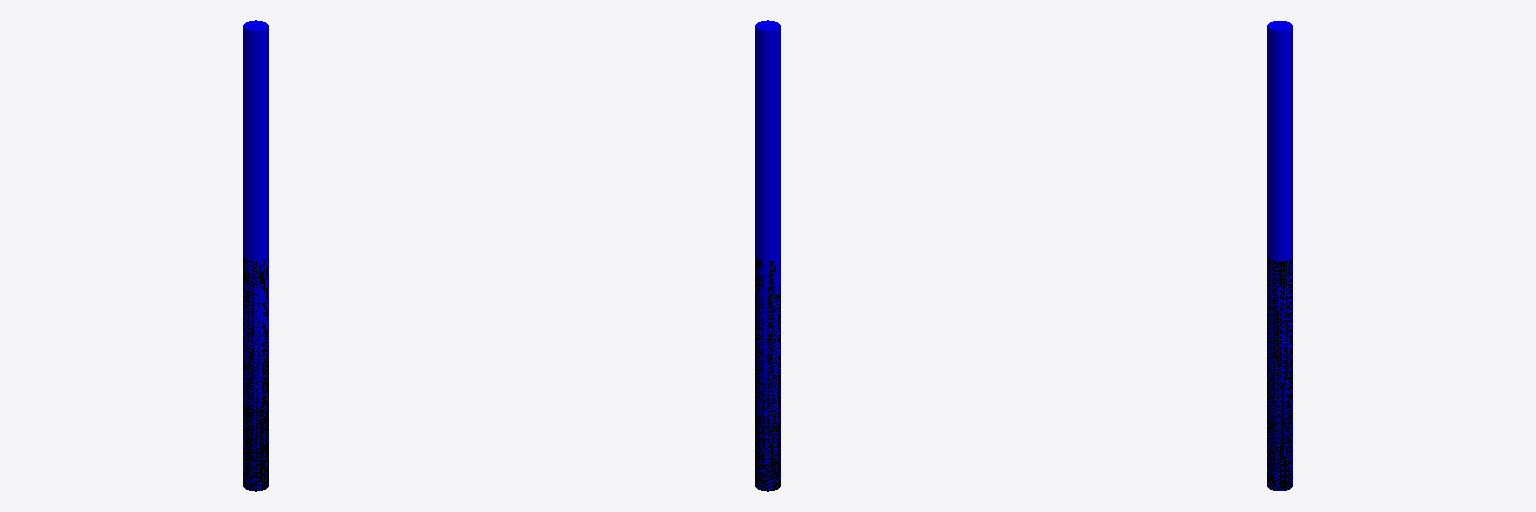
The robot description file, URDF, robot "three_link_walker":
<?xml version="1.0" ?>
<!-- =================================================================================== -->
<!-- |    This document was autogenerated by xacro from three_link_walker.xacro        | -->
<!-- |    EDITING THIS FILE BY HAND IS NOT RECOMMENDED                                 | -->
<!-- =================================================================================== -->
<robot name="three_link_walker" xmlns:xacro="http://ros.org/wiki/xacro">
  <link name="torso">
    <inertial>
      <origin rpy="0 0 0" xyz="0 0 0.1"/>
      <mass value="25"/>
      <inertia ixx="0" ixy="0" ixz="0" iyy="0" iyz="0" izz="0"/>
    </inertial>
    <visual>
      <origin rpy="0 0 0" xyz="0 0 0.25"/>
      <geometry>
        <cylinder length="0.5" radius="0.025"/>
      </geometry>
      <material name="black">
        <color rgba="0 0 0 1"/>
      </material>
    </visual>
  </link>
  <link name="right_leg">
    <inertial>
      <origin rpy="0 0 0" xyz="0 0 0.5"/>
      <mass value="5"/>
      <inertia ixx="0" ixy="0" ixz="0" iyy="0" iyz="0" izz="0"/>
    </inertial>
    <visual>
      <origin rpy="0 0 0" xyz="0 0 0.5"/>
      <geometry>
        <cylinder length="1.0" radius="0.025"/>
      </geometry>
      <material name="blue">
        <color rgba="0 0 1 1"/>
      </material>
    </visual>
  </link>
  <link name="left_leg">
    <inertial>
      <origin rpy="0 0 0" xyz="0 0 0.5"/>
      <mass value="5"/>
      <inertia ixx="0" ixy="0" ixz="0" iyy="0" iyz="0" izz="0"/>
    </inertial>
    <visual>
      <origin rpy="0 0 0" xyz="0 0 0.5"/>
      <geometry>
        <cylinder length="1.0" radius="0.025"/>
      </geometry>
      <material name="red">
        <color rgba="1 0 0 1"/>
      </material>
    </visual>
  </link>
  <joint name="q_right" type="continuous">
    <origin rpy="0 0 0" xyz="0 0 0"/>
    <axis xyz="0 1 0"/>
    <parent link="torso"/>
    <child link="right_leg"/>
  </joint>
  <joint name="q_left" type="continuous">
    <origin rpy="0 0 0" xyz="0 0 0"/>
    <axis xyz="0 1 0"/>
    <parent link="torso"/>
    <child link="left_leg"/>
  </joint>
</robot>

--- Facts derived from the render (not from the file) ---
The picture shows the robot from 3 angles, left to right: view 1: azimuth 30°, elevation 25°; view 2: azimuth 150°, elevation 25°; view 3: azimuth 270°, elevation 25°; orthographic projection.
Model three_link_walker with 3 links and 2 joints (2 continuous), rooted at torso, posed every joint at zero.
Links seen in each view (by area): view 1: right_leg, torso; view 2: right_leg, torso; view 3: right_leg, torso.
Boxes of the visible links, x1=… form: right_leg: x1=243, y1=20, x2=268, y2=490; torso: x1=243, y1=257, x2=268, y2=491; right_leg: x1=755, y1=20, x2=780, y2=490; torso: x1=755, y1=258, x2=780, y2=491; right_leg: x1=1267, y1=21, x2=1292, y2=490; torso: x1=1267, y1=257, x2=1292, y2=490.
Size in the robot's own frame: 0.05 by 0.05 by 1 metres.
Geometry: primitives only (box / cylinder / sphere), no mesh files.
